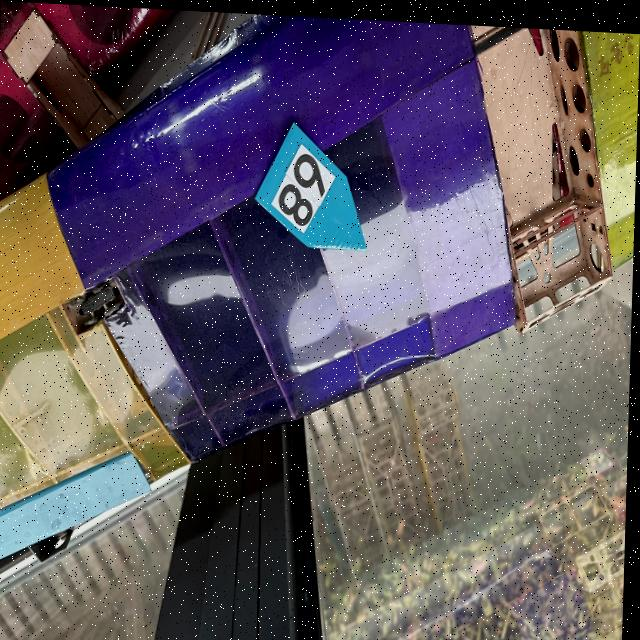board: (254, 114, 370, 251)
